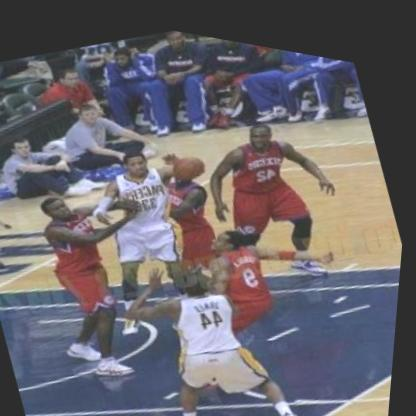basketball: (171, 139, 211, 181)
